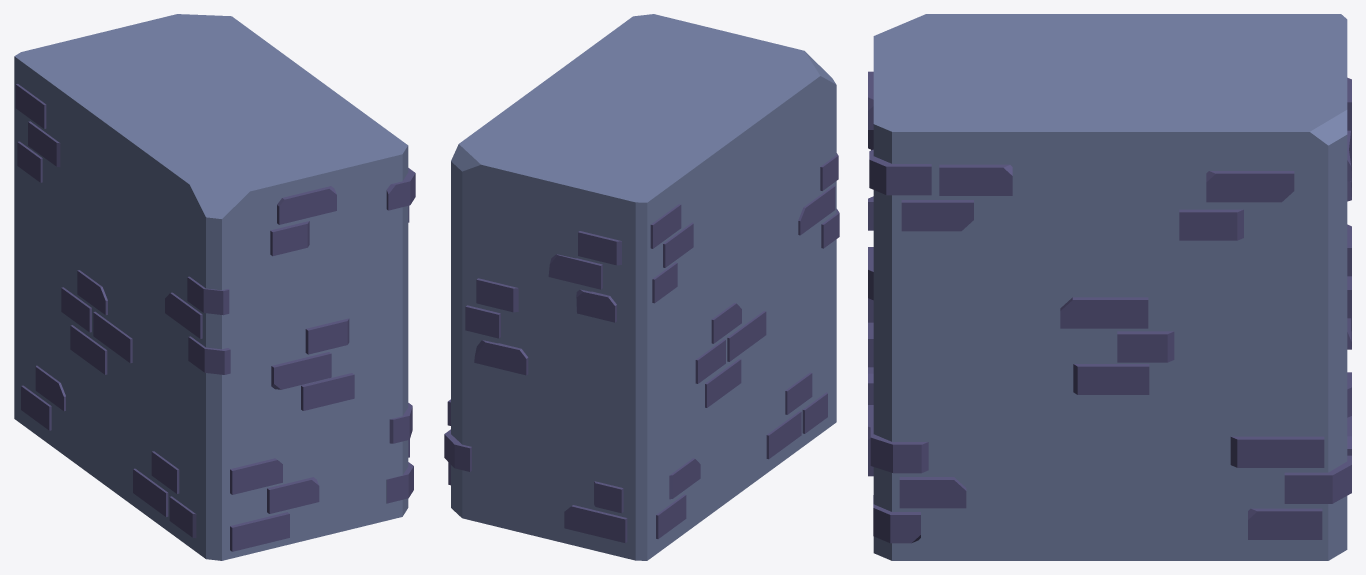
Rendered from Wall_01.fbx.
3 views of the same model, side by side, from view 1: azimuth 30°, elevation 25°; view 2: azimuth 150°, elevation 25°; view 3: azimuth 270°, elevation 25° (orthographic). The views are drawn at different scales.
Parts seen in each view (by area): view 1: Wall_01; view 2: Wall_01; view 3: Wall_01.
Part boxes in pixels (x1=…): Wall_01: x1=14, y1=14, x2=415, y2=560; Wall_01: x1=444, y1=14, x2=839, y2=560; Wall_01: x1=868, y1=14, x2=1351, y2=560.
Bounding box in the file's own units: 488 × 800 × 818.
